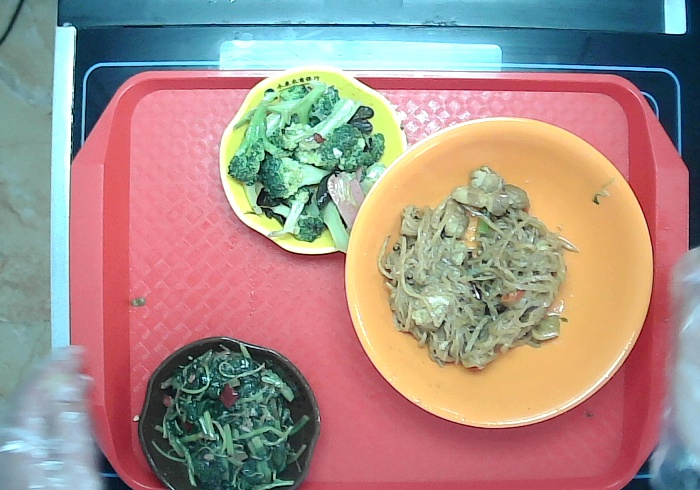YKMZ-Huang_Se_Ao_Bian_Wan: (219, 61, 405, 259)
YKMZ-Ju_Se_Tang_Wan: (341, 114, 655, 429)
YKMZ-Ka_Fei_Ao_Bian_Wan: (140, 332, 320, 490)
